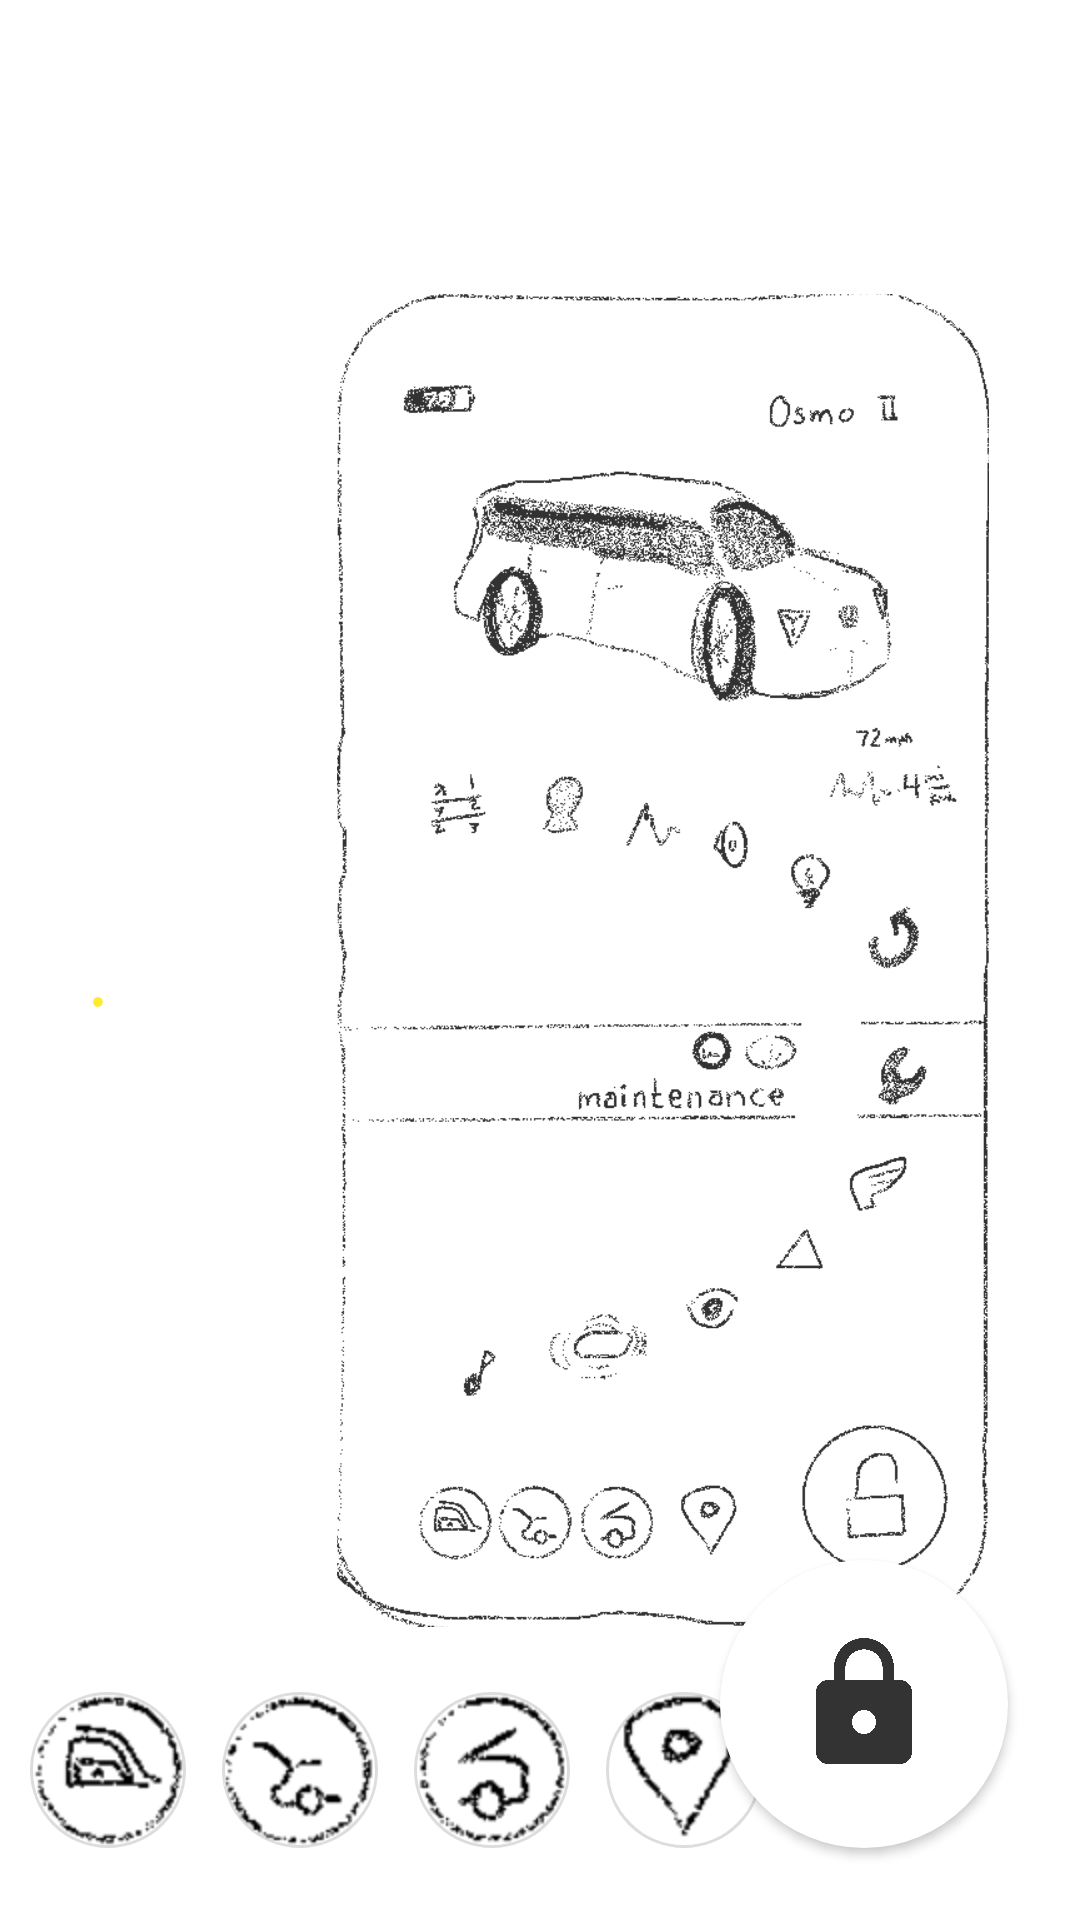

Where icons sit on this 1080 x 1920 app screen, as [left=x1, top=y1, right=x2, bottom=y2]:
Location: [left=606, top=1692, right=762, bottom=1848]
lock: [left=816, top=1578, right=970, bottom=1764]
Windows: [left=30, top=1692, right=186, bottom=1848]
